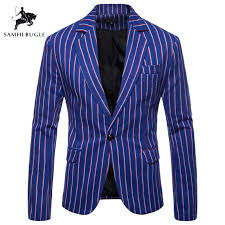striped: (27, 2, 201, 222)
